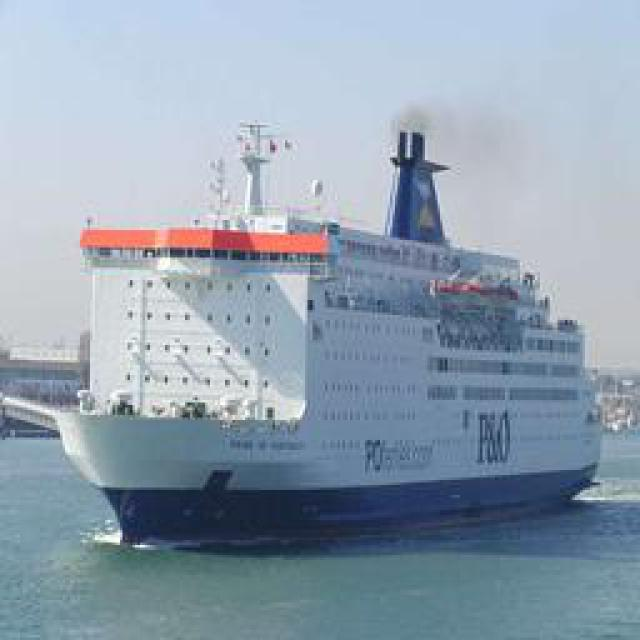Ship: (40, 96, 603, 541)
